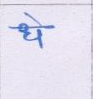e_matra: (24, 12, 42, 25)
